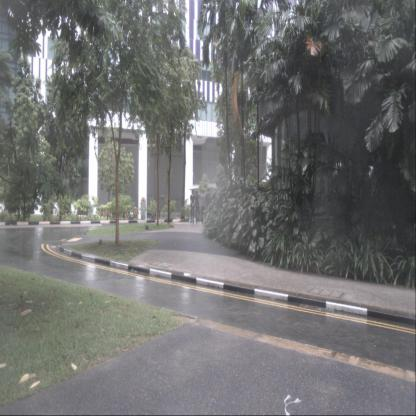human-pedestrian-adult: (190, 190, 196, 224), (200, 190, 206, 224), (206, 188, 211, 221), (196, 190, 200, 224)
